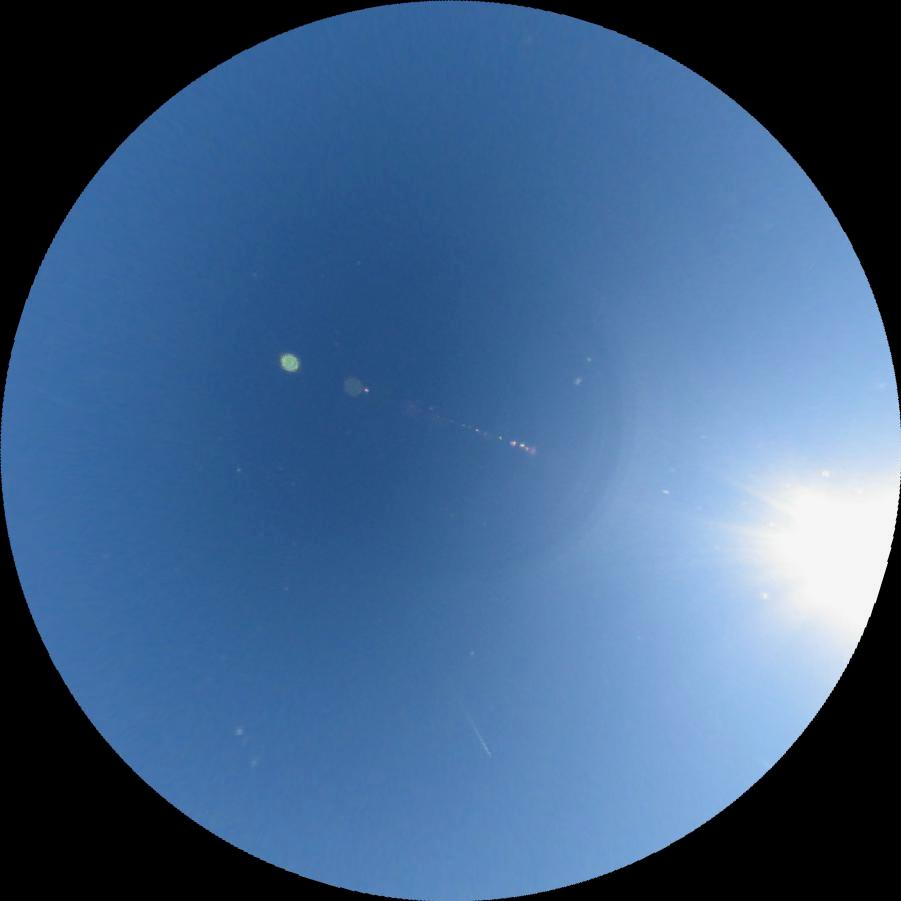contrail young: (460, 705, 492, 757)
sun: (754, 466, 899, 638)
